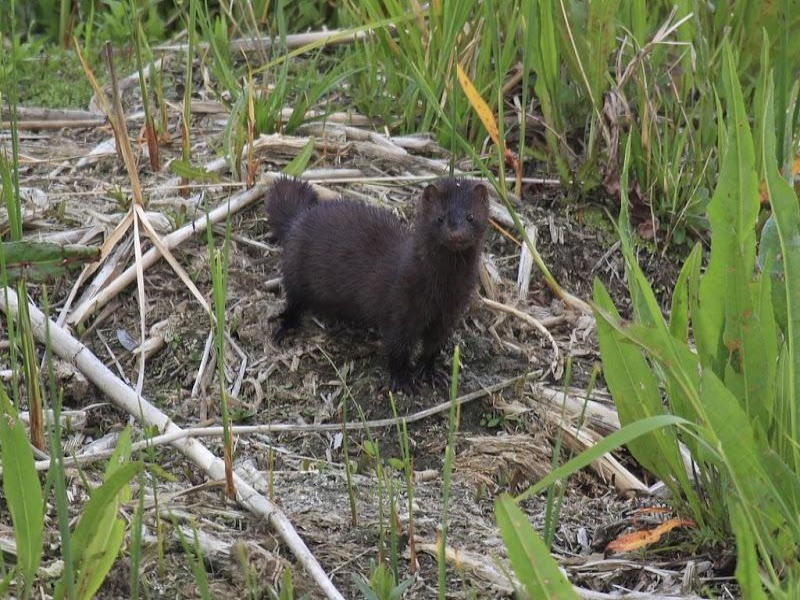minkish: (261, 173, 490, 392)
